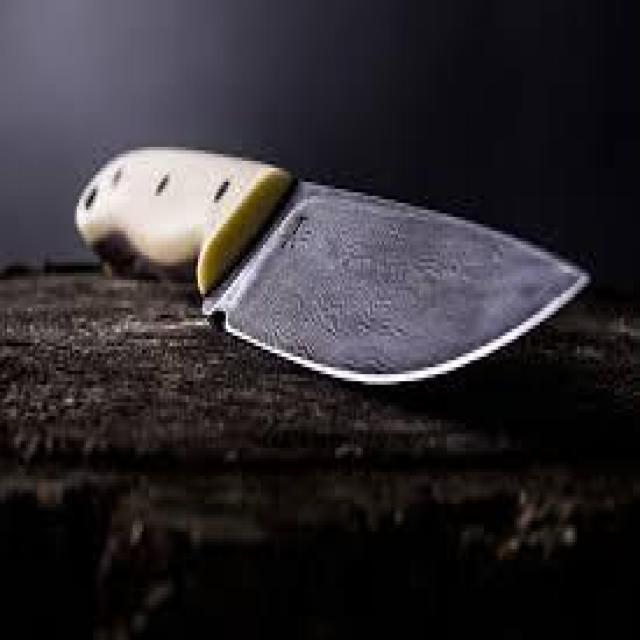Knife: (62, 136, 590, 390)
